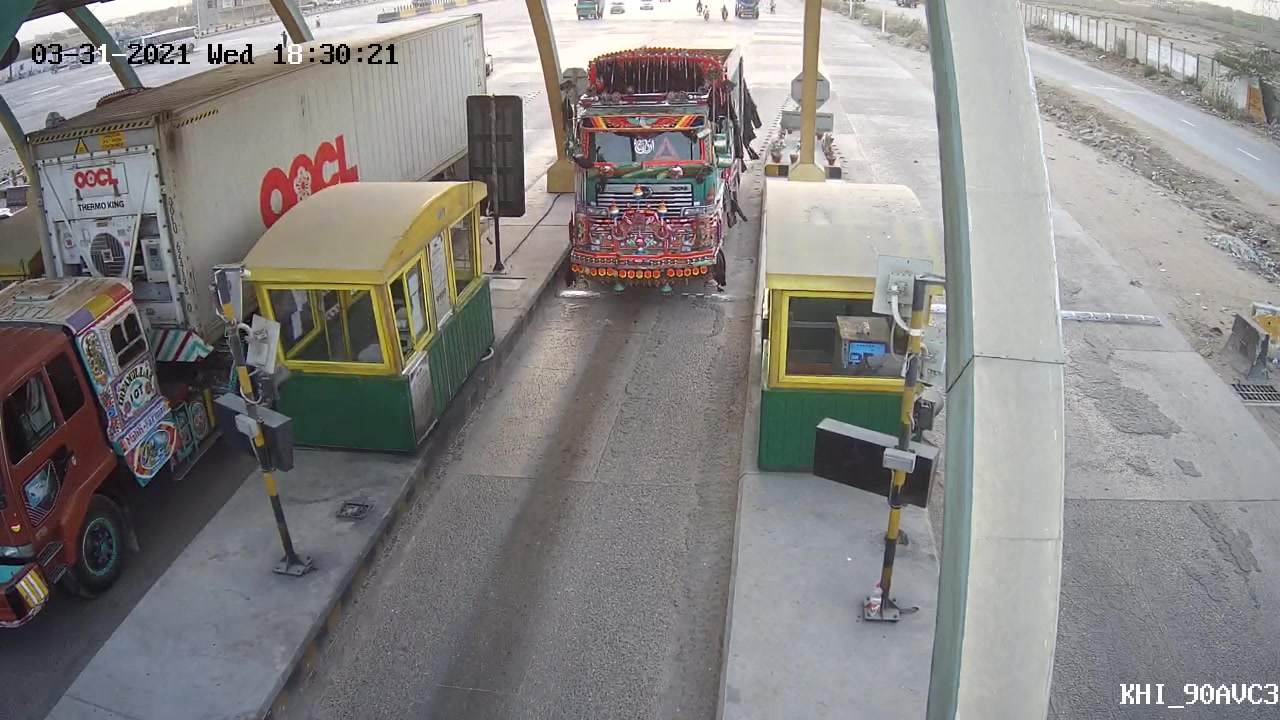F5: (550, 69, 757, 295)
